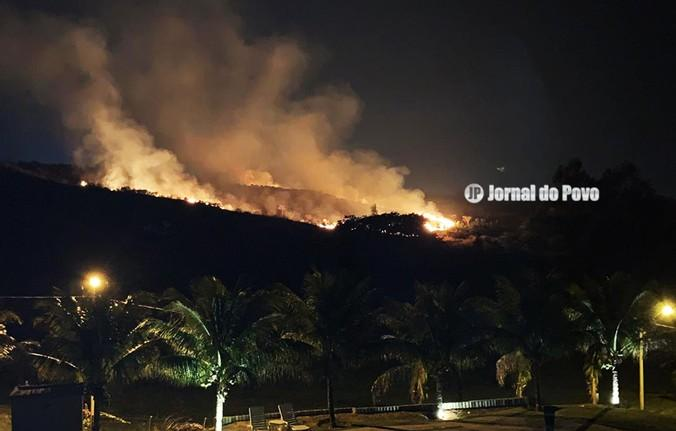fire: (428, 214, 458, 236)
smoke: (82, 24, 264, 140)
